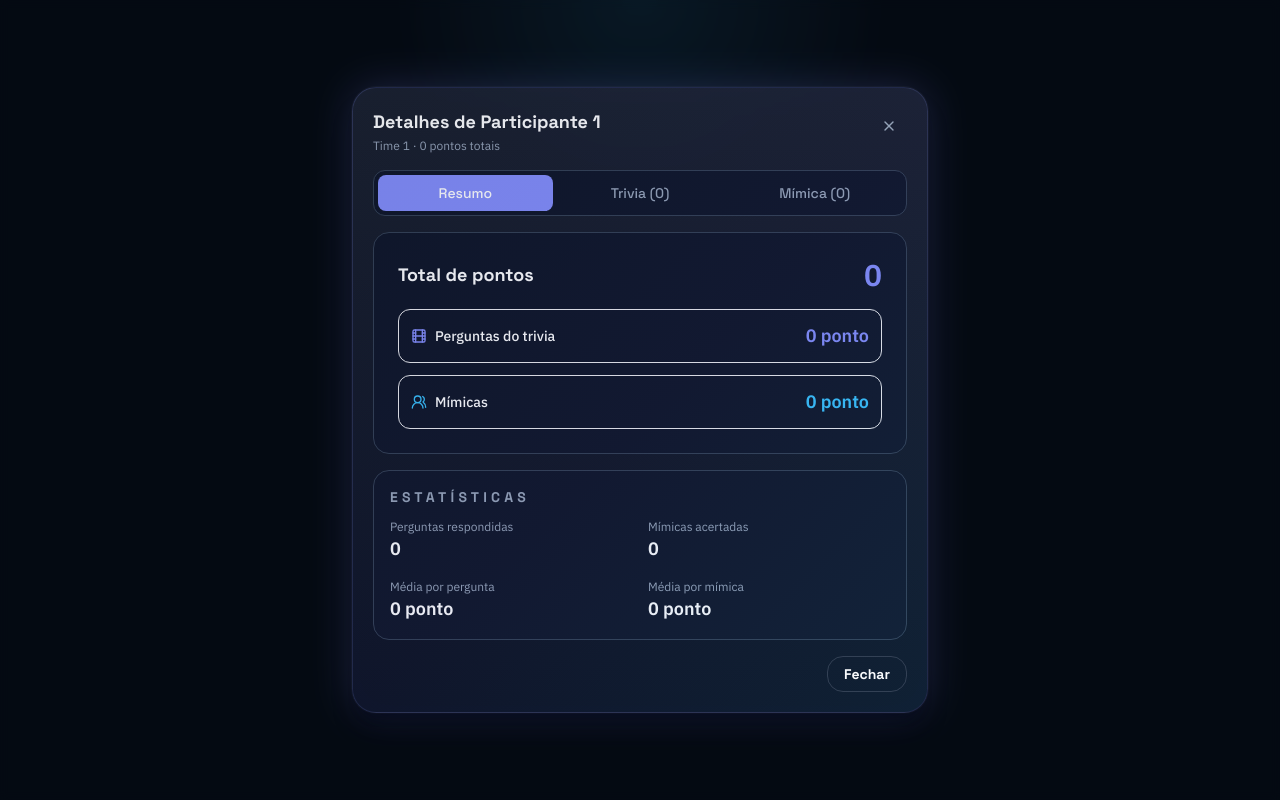
Scenario: ScoreDetailView › deve mostrar mensagem quando não há perguntas respondidas
Click the button "Trivia (0)": (640, 193) [553,175,727,211]
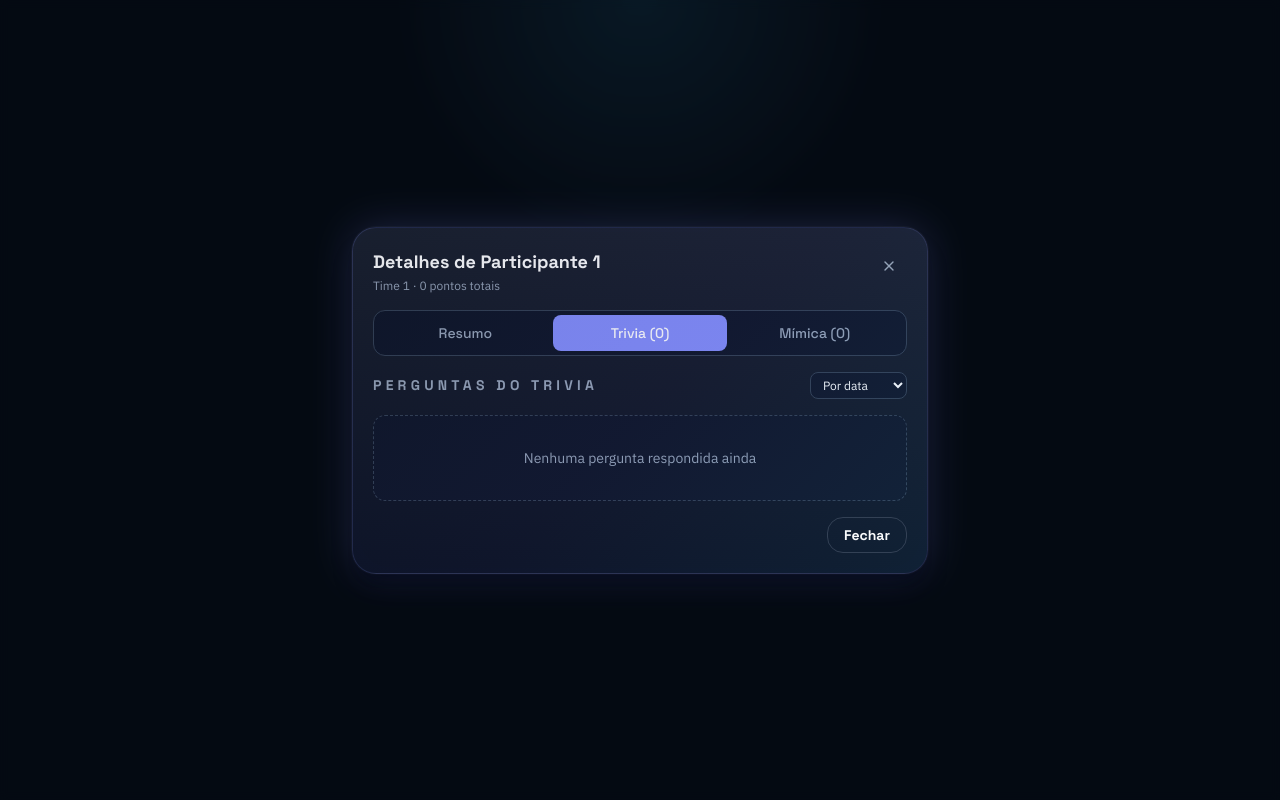
Expected: the text "Nenhuma pergunta respondida ainda" is shown, [524,448,756,466]
